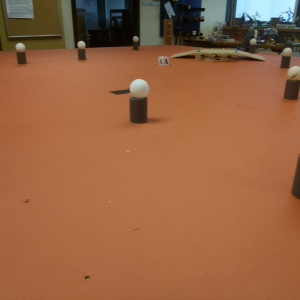blockA: (156, 55, 171, 69)
corner: (162, 16, 175, 46)
obstacle: (130, 79, 150, 124), (286, 68, 300, 103), (292, 146, 300, 207), (13, 43, 29, 66), (73, 39, 88, 63), (279, 46, 294, 67), (129, 34, 141, 53), (251, 38, 257, 53)
side: (197, 53, 236, 67)
slope: (239, 53, 265, 65), (173, 49, 194, 61)
start: (108, 86, 129, 101)
